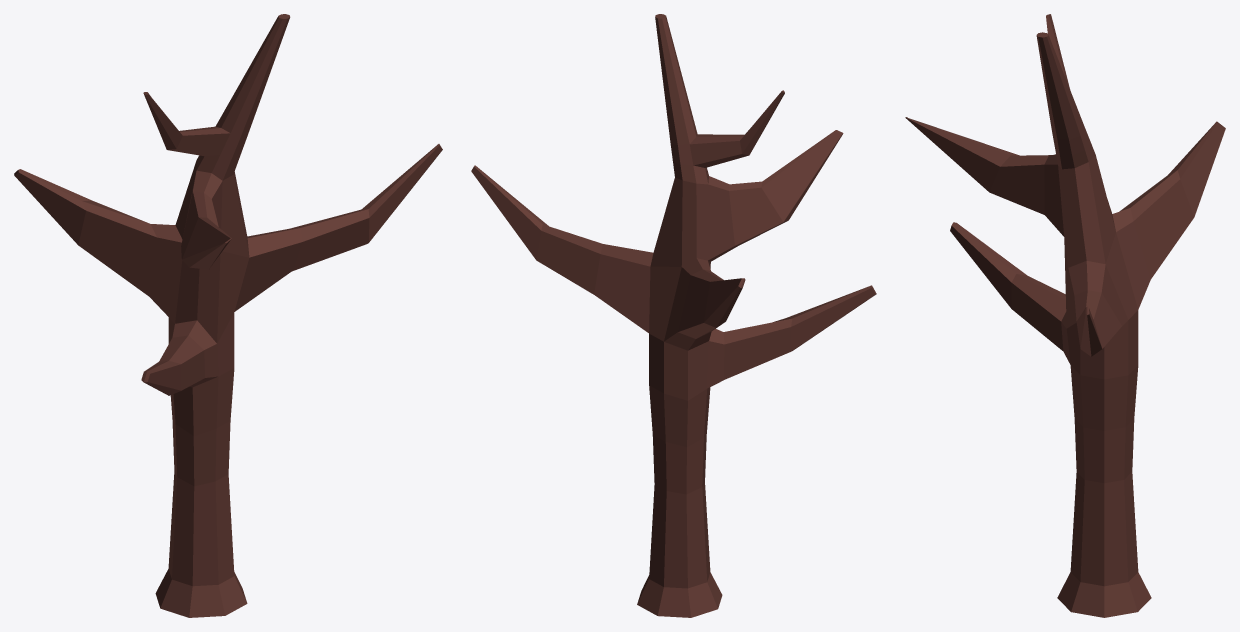
File: LeafTreeDead.fbx
3 views of the same model, side by side, from view 1: azimuth 30°, elevation 25°; view 2: azimuth 150°, elevation 25°; view 3: azimuth 270°, elevation 25° (orthographic). The views are drawn at different scales.
Parts seen in each view (by area): view 1: LeafTree; view 2: LeafTree; view 3: LeafTree.
Part boxes in pixels (<box>): LeafTree: <box>14,14,442,617</box>; LeafTree: <box>471,14,876,617</box>; LeafTree: <box>905,14,1225,617</box>.
Bounding box in the file's own units: 253 × 388 × 192.
